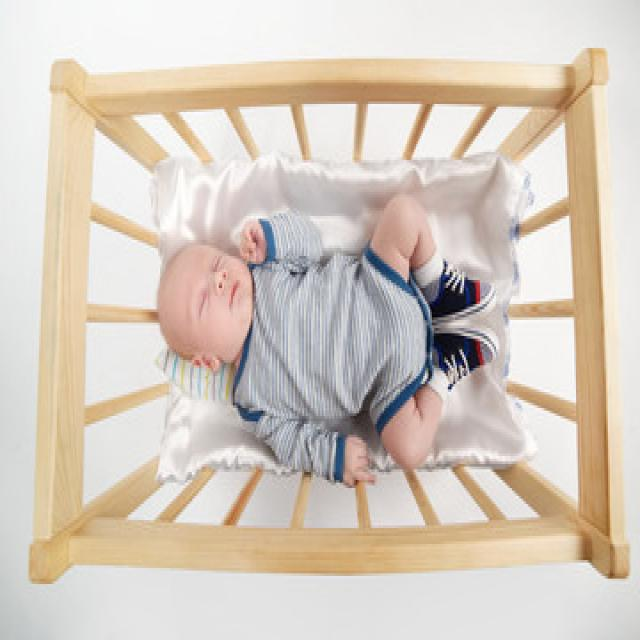baby: (151, 184, 500, 488)
crib: (27, 46, 629, 582)
